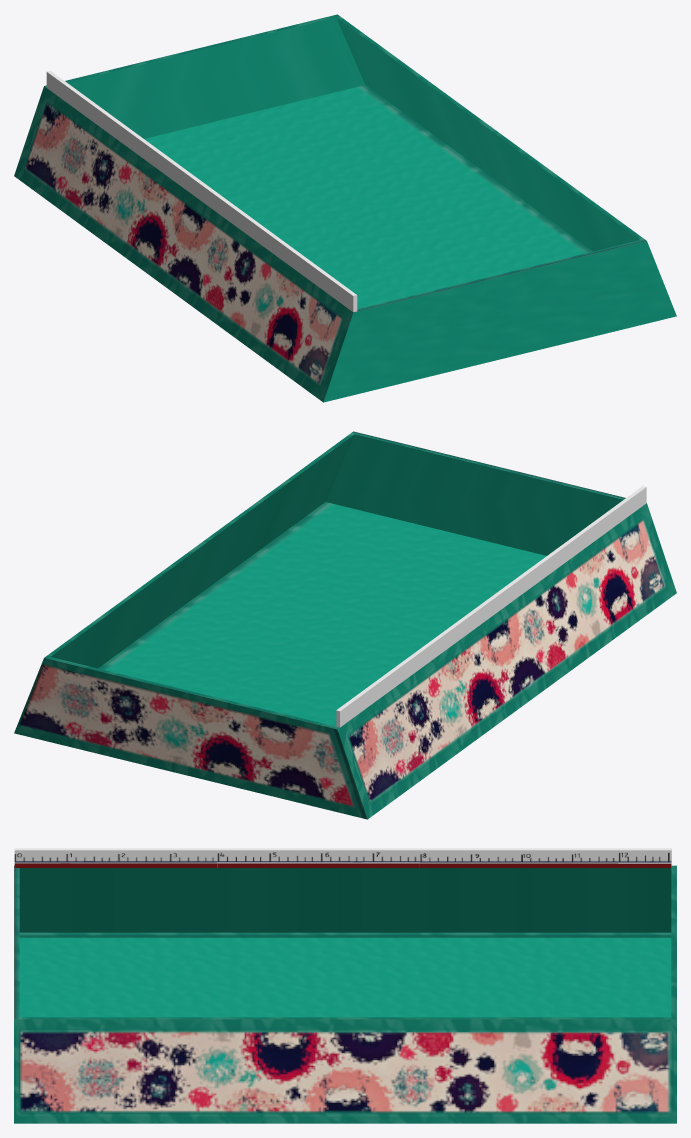
Rendered from dockjump1.fbx.
3 views of the same model, one above another, from view 1: azimuth 30°, elevation 25°; view 2: azimuth 150°, elevation 25°; view 3: azimuth 270°, elevation 25° (orthographic). The views are drawn at different scales.
Parts seen in each view (by area): view 1: polySurface1, polySurface2; view 2: polySurface1, polySurface2; view 3: polySurface1, polySurface2.
Boxes of the visible parts, left/top/right/bottom form: polySurface1: left=14, top=14, right=676, bottom=402; polySurface2: left=46, top=70, right=357, bottom=312; polySurface1: left=14, top=431, right=676, bottom=819; polySurface2: left=336, top=486, right=646, bottom=727; polySurface1: left=14, top=865, right=676, bottom=1123; polySurface2: left=14, top=848, right=671, bottom=867.
Bounding box in the file's own units: 184 × 49.3 × 279.
